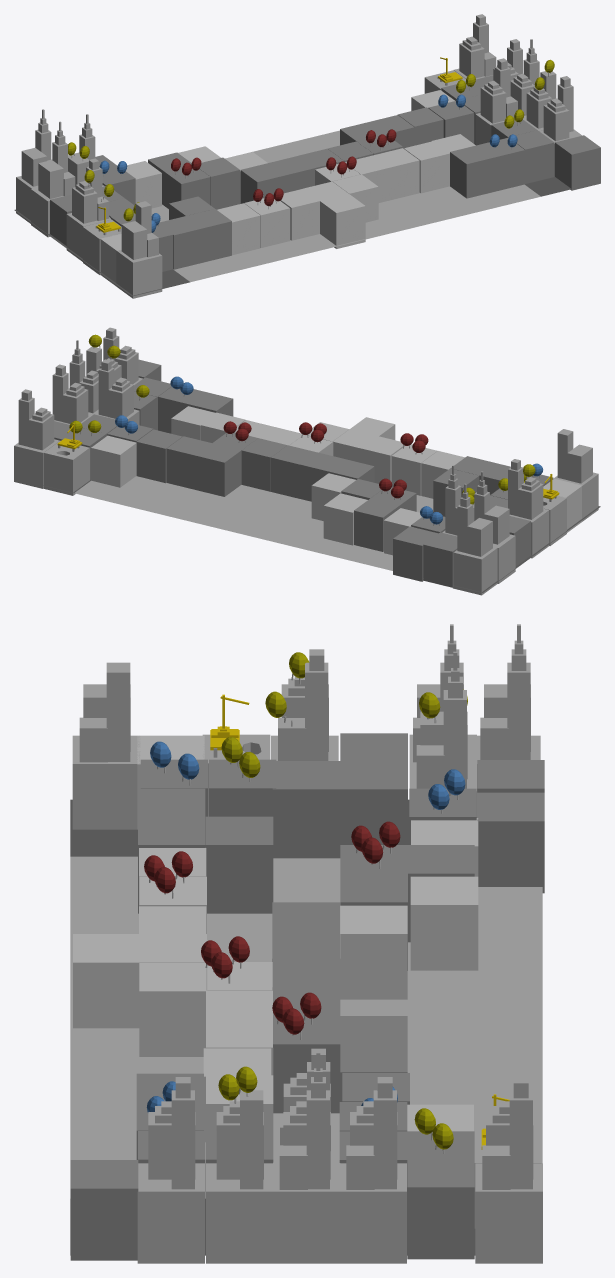
Rendered from TESTTEST.fbx.
The picture shows the model from 3 angles, top to bottom: view 1: azimuth 30°, elevation 25°; view 2: azimuth 150°, elevation 25°; view 3: azimuth 270°, elevation 25°; orthographic projection. The views are drawn at different scales.
Parts seen in each view (by area): view 1: pPlane1, pCube127, pCube213, pCube208, pCube149, pCube193, pCube89, pCube209, pCube136, pCube192, pCube134, pCube214 (+48 smaller); view 2: pPlane1, pCube129, pCube83, pCube80, pCube142, pCube169, pCube172, pCube131, pCube167, pCube84, pCube151, pCube130 (+53 smaller); view 3: pPlane1, pCube204, pCube127, pCube170, pCube159, pCube195, pCube194, pCube169, pCube213, pCube227, pCube37, pCube200 (+58 smaller).
Part boxes in pixels (x1,y1,x2,y2): pPlane1: (14,130,593,296); pCube127: (555,135,600,190); pCube213: (320,194,365,248); pCube208: (450,145,495,198); pCube149: (116,250,162,298); pCube193: (159,216,203,269); pCube89: (404,141,449,193); pCube209: (186,209,231,262); pCube136: (508,130,554,183); pCube192: (199,157,239,209); pCube134: (374,148,419,200); pCube214: (280,188,320,240); pPlane1: (43,420,600,592); pCube129: (195,443,241,496); pCube83: (91,435,136,487); pCube80: (44,440,89,495); pCube142: (453,546,497,595); pCube169: (393,526,438,581); pCube172: (354,498,399,551); pCube131: (136,429,182,483); pCube167: (423,532,457,587); pCube84: (241,438,287,491); pCube151: (271,445,316,498); pCube130: (166,436,211,489); pPlane1: (70,799,542,1255); pCube204: (407,1158,474,1259); pCube127: (70,1160,138,1260); pCube170: (205,816,273,913); pCube159: (272,761,340,858); pCube195: (410,876,478,970); pCube194: (340,905,407,999); pCube169: (477,792,544,893); pCube213: (73,934,140,1028); pCube227: (139,963,206,1056); pCube37: (137,1163,204,1263); pCube200: (206,1163,273,1263).
Size of the model in its own units: 15.93 by 3.31 by 6.98.
